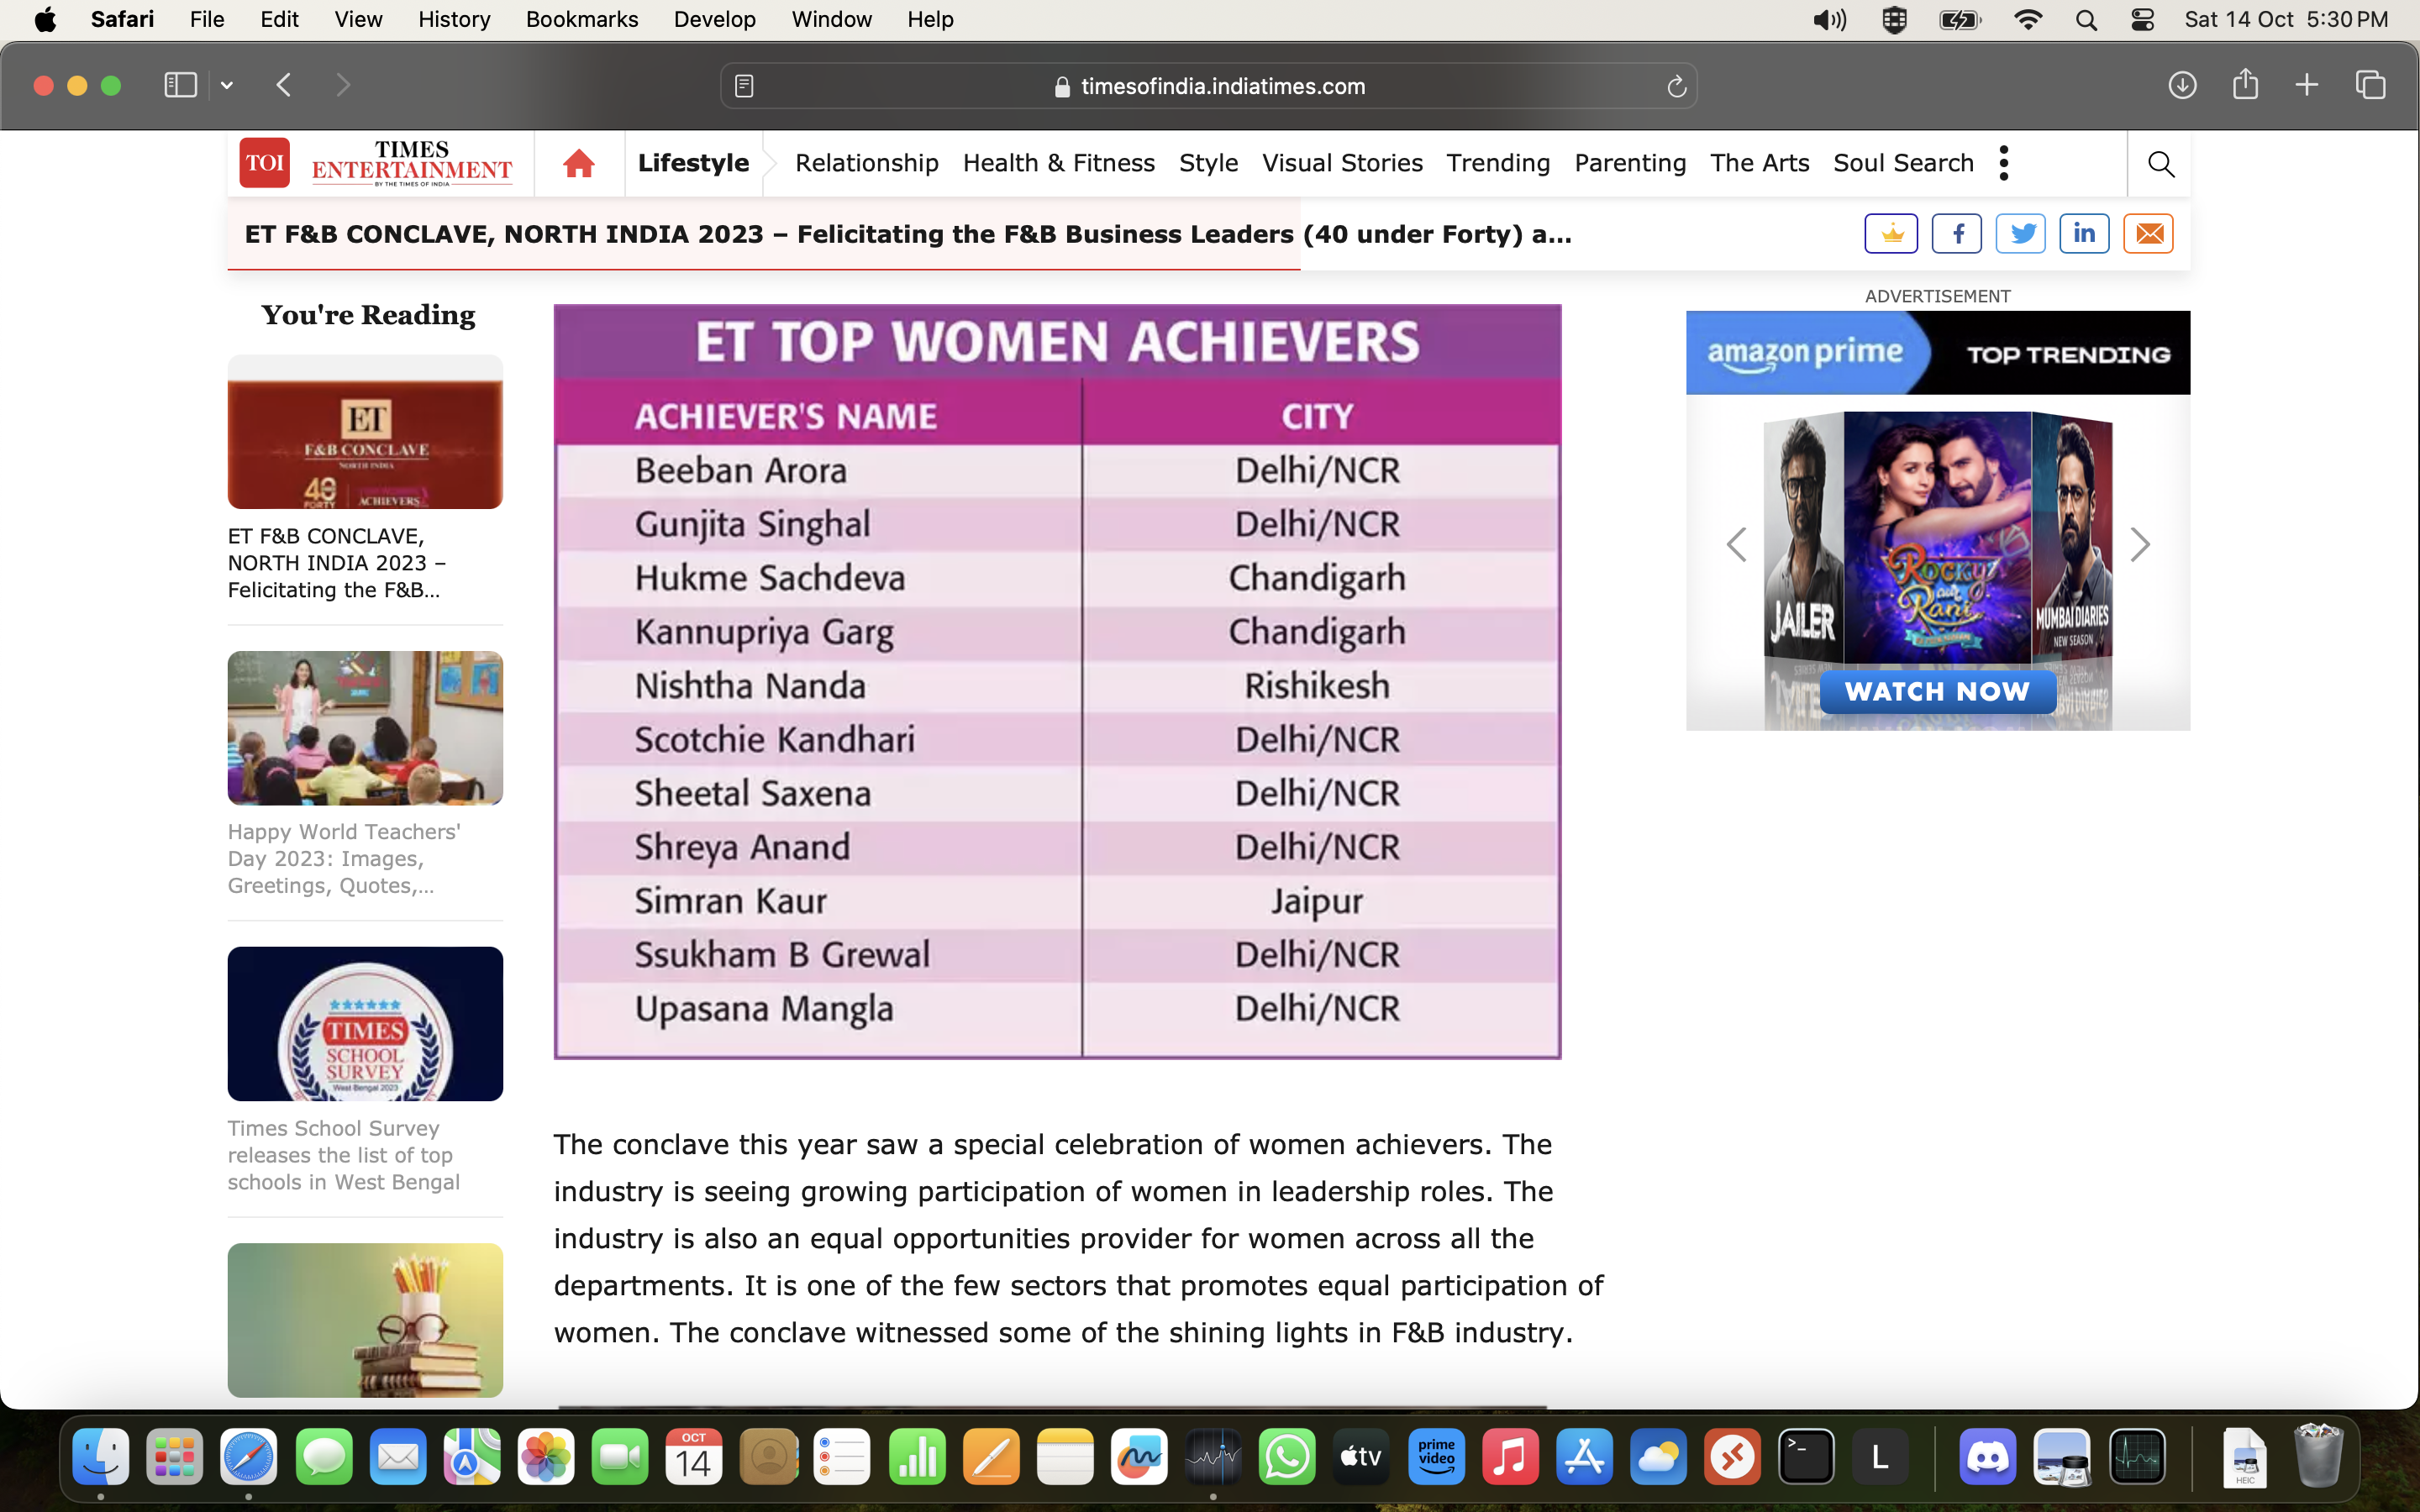Image: (1774, 418, 2103, 730), (230, 1247, 500, 1392), (230, 662, 504, 803), (223, 371, 507, 503), (237, 953, 510, 1083)
Paragraph: (545, 1118, 1622, 1367), (230, 206, 1580, 261), (662, 308, 1437, 378), (220, 1115, 493, 1207), (206, 528, 481, 613), (223, 815, 484, 902), (1681, 301, 1923, 387), (617, 387, 946, 442), (1937, 319, 2185, 383), (617, 921, 936, 970), (613, 603, 906, 655), (627, 988, 906, 1042), (1218, 925, 1430, 988), (251, 287, 488, 343), (627, 500, 896, 549), (634, 871, 847, 928), (627, 658, 882, 705), (627, 446, 875, 493), (1211, 991, 1423, 1045), (631, 723, 927, 761), (631, 772, 913, 812), (634, 819, 878, 864), (1214, 500, 1420, 552), (624, 563, 936, 596), (1221, 613, 1427, 658), (1221, 716, 1427, 761), (1221, 552, 1416, 599), (1242, 662, 1420, 709), (1218, 833, 1434, 871), (1228, 775, 1420, 812), (1218, 453, 1420, 486), (1258, 878, 1371, 932), (1265, 401, 1378, 435)
